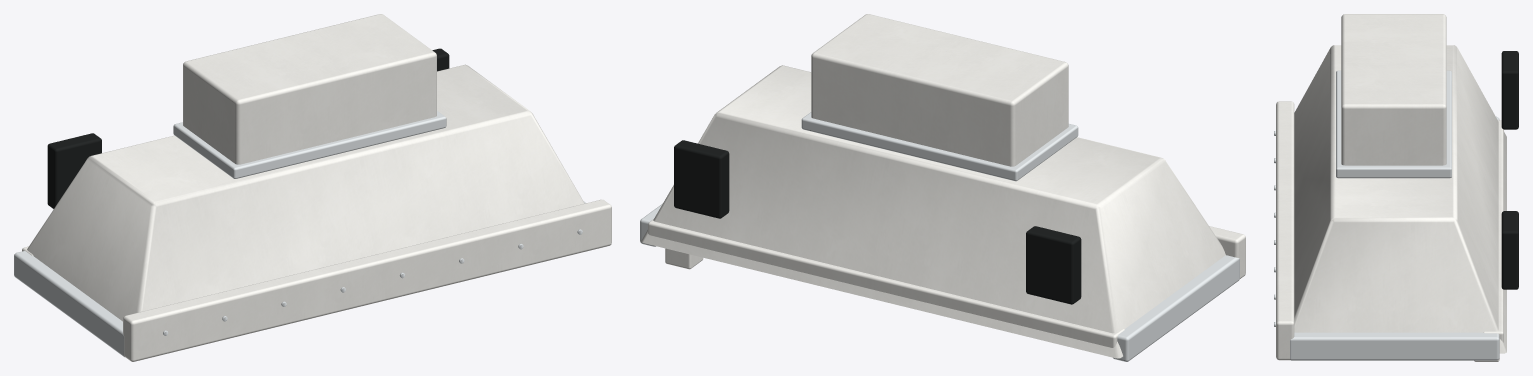
Rendered from diner_extractor_hood.glb.
3 views of the same model, side by side, from view 1: azimuth 30°, elevation 25°; view 2: azimuth 150°, elevation 25°; view 3: azimuth 270°, elevation 25° (orthographic). The views are drawn at different scales.
Parts seen in each view (by area): view 1: diner_extractor_hood_ss_stainless_pbr, diner_extractor_hood_ss_polished_chrome, diner_extractor_hood_ss_black_rubber; view 2: diner_extractor_hood_ss_stainless_pbr, diner_extractor_hood_ss_polished_chrome, diner_extractor_hood_ss_black_rubber; view 3: diner_extractor_hood_ss_stainless_pbr, diner_extractor_hood_ss_polished_chrome, diner_extractor_hood_ss_black_rubber.
Part boxes in pixels (left/top/right/bottom): diner_extractor_hood_ss_stainless_pbr: left=22, top=14, right=611, bottom=361; diner_extractor_hood_ss_polished_chrome: left=14, top=111, right=586, bottom=357; diner_extractor_hood_ss_black_rubber: left=47, top=48, right=449, bottom=208; diner_extractor_hood_ss_stainless_pbr: left=641, top=14, right=1245, bottom=358; diner_extractor_hood_ss_polished_chrome: left=640, top=112, right=1239, bottom=361; diner_extractor_hood_ss_black_rubber: left=674, top=140, right=1081, bottom=304; diner_extractor_hood_ss_stainless_pbr: left=1276, top=14, right=1506, bottom=361; diner_extractor_hood_ss_polished_chrome: left=1274, top=70, right=1499, bottom=360; diner_extractor_hood_ss_black_rubber: left=1501, top=51, right=1518, bottom=289.
Bounding box in the file's own units: 2.44 × 1.04 × 1.14.
4 materials, 1 textured.
